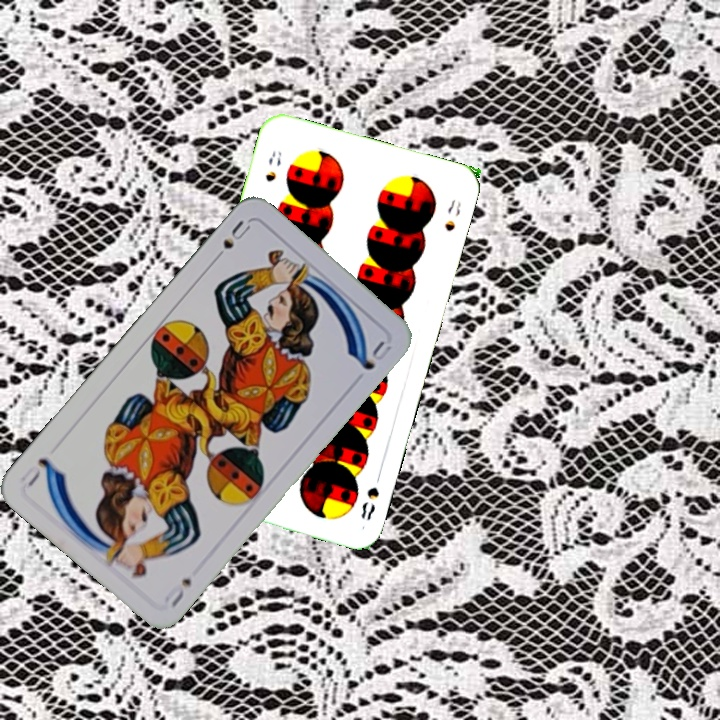S8: (356, 468, 384, 523), (261, 147, 285, 184)
SU: (208, 216, 253, 266), (160, 573, 194, 610)
